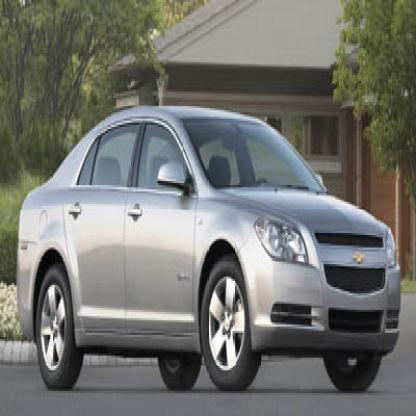Vehicle: (16, 108, 404, 397)
